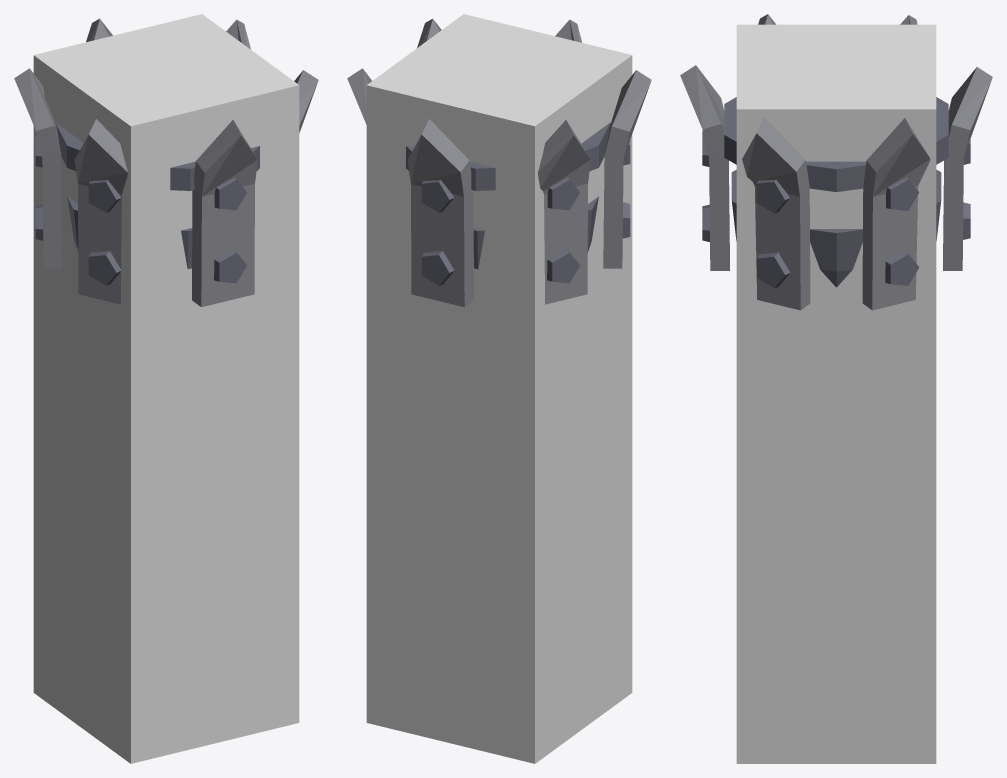
Rendered from orc_torch2.glb.
The picture shows the model from 3 angles, left to right: view 1: azimuth 30°, elevation 25°; view 2: azimuth 150°, elevation 25°; view 3: azimuth 270°, elevation 25°; orthographic projection. The views are drawn at different scales.
Parts seen in each view (by area): view 1: Cube, torch_2; view 2: Cube, torch_2; view 3: Cube, torch_2.
Part boxes in pixels (x1,y1,x2,y2): Cube: (33, 14, 299, 763); torch_2: (14, 18, 318, 307); Cube: (366, 14, 632, 763); torch_2: (347, 18, 651, 307); Cube: (736, 24, 936, 763); torch_2: (680, 14, 992, 310).
Size of the model in its own units: 0.7969 by 2.11 by 0.9135.
Materials: 1 (1 with a texture image).
